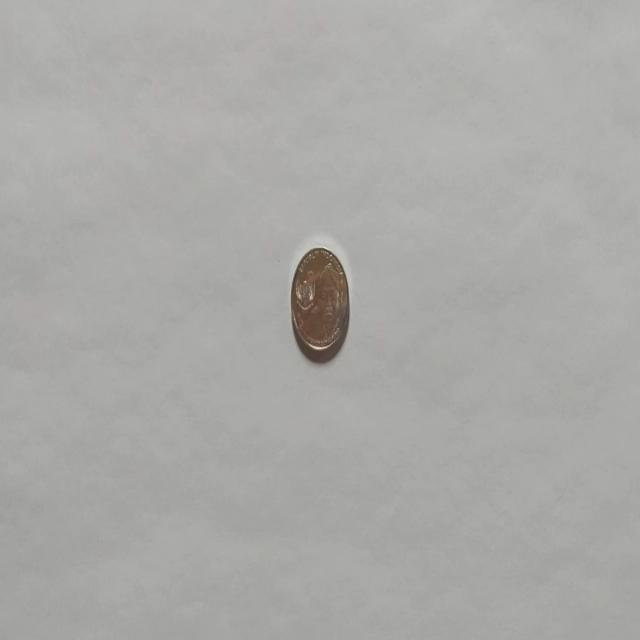dua ratus rupiah: (290, 244, 350, 360)
